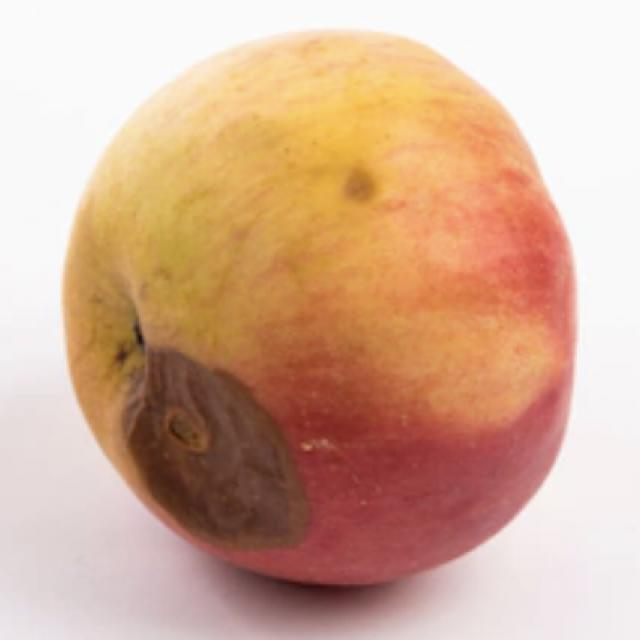Rotten: (90, 38, 572, 570)
